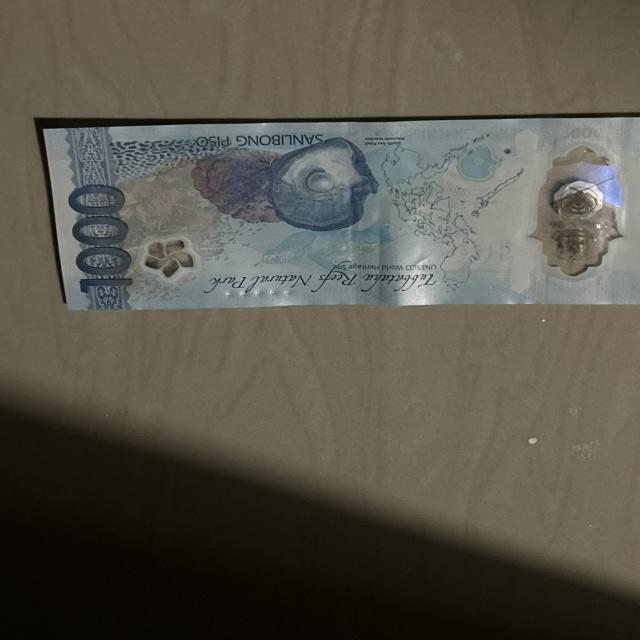clear_window: (514, 140, 625, 286)
sampaguita: (144, 235, 198, 275)
